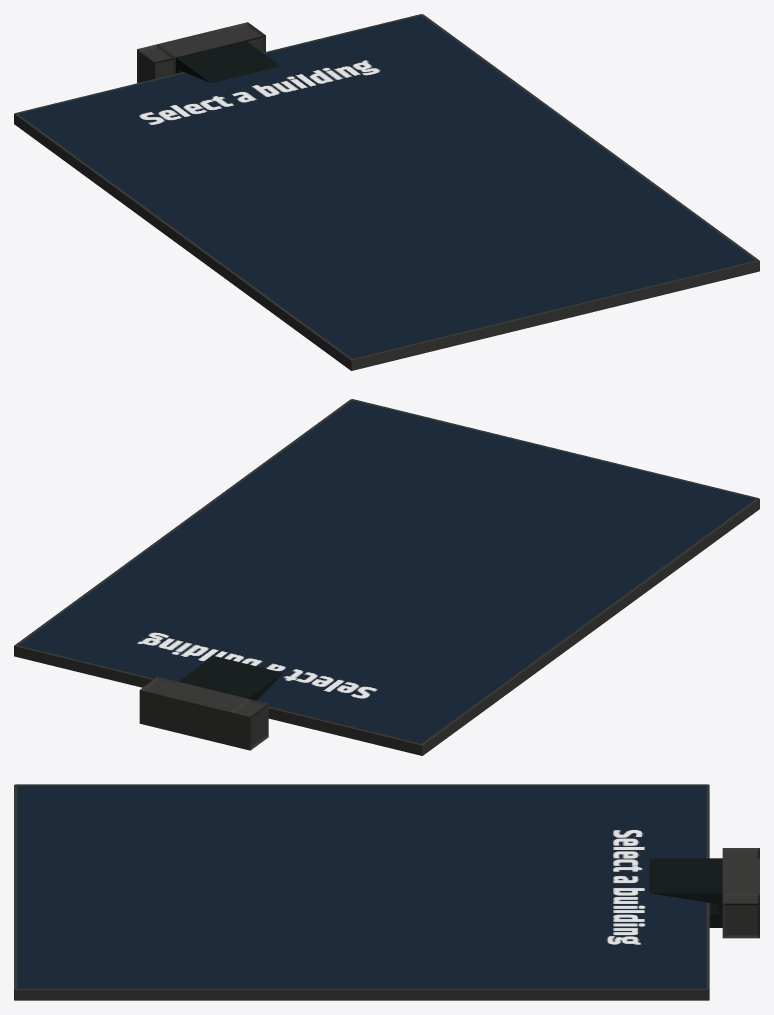
Rendered from clip_haus_none.obj.
The picture shows the model from 3 angles, top to bottom: view 1: azimuth 30°, elevation 25°; view 2: azimuth 150°, elevation 25°; view 3: azimuth 270°, elevation 25°; orthographic projection. The views are drawn at different scales.
Parts seen in each view (by area): view 1: clipboard_none; view 2: clipboard_none; view 3: clipboard_none.
Part boxes in pixels (box(x1,y1,x2,y2)): clipboard_none: box(14, 14, 759, 370); clipboard_none: box(14, 399, 759, 755); clipboard_none: box(14, 784, 759, 1000).
Bounding box in the file's own units: 0.2144 × 0.0169 × 0.3289.
Materials: 4 (1 with a texture image).
